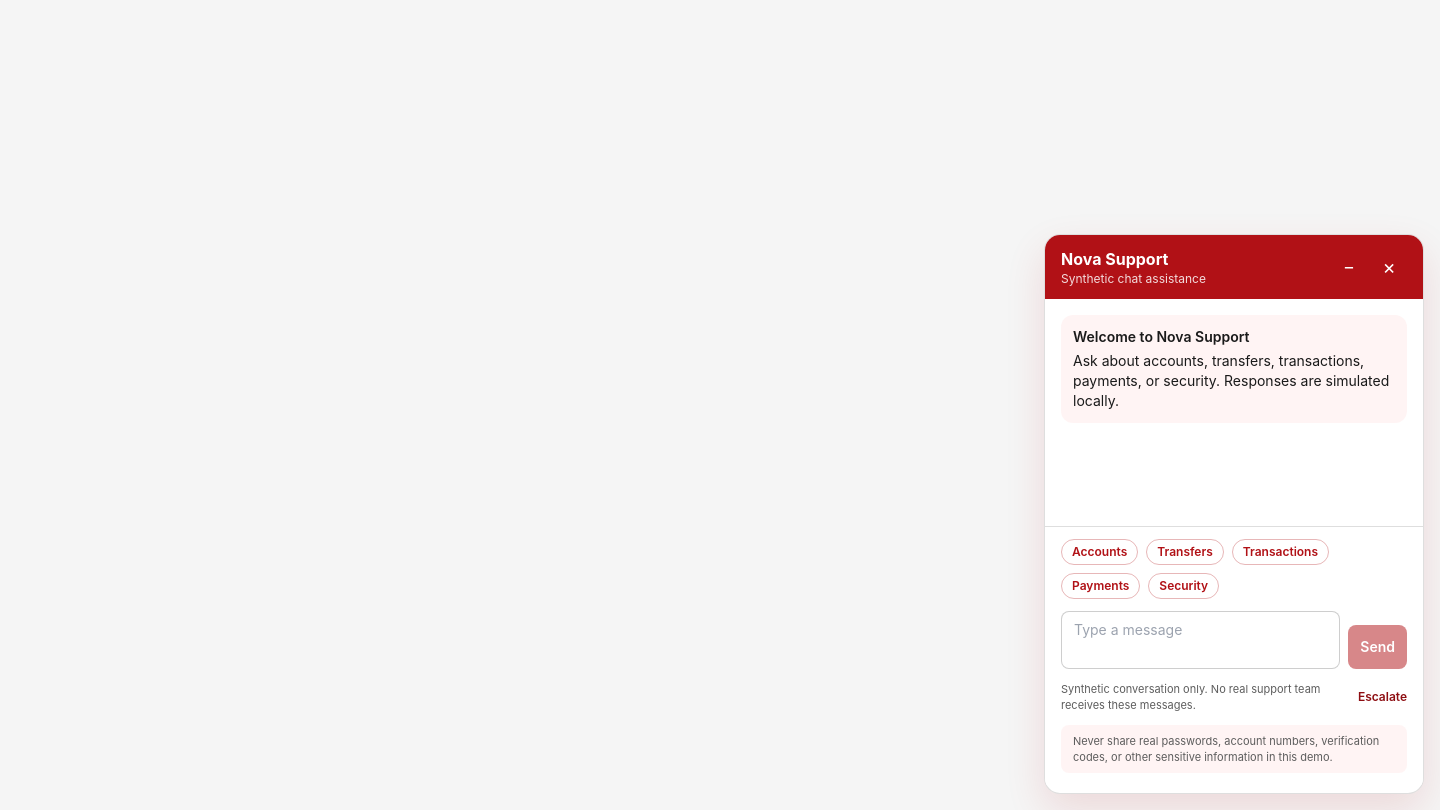
Test: ChatDrawer › sends a topic chip and shows a persona-specific scripted response
Click the button "Accounts" at (1100, 552), box x1=1061 y1=539 x2=1138 y2=565
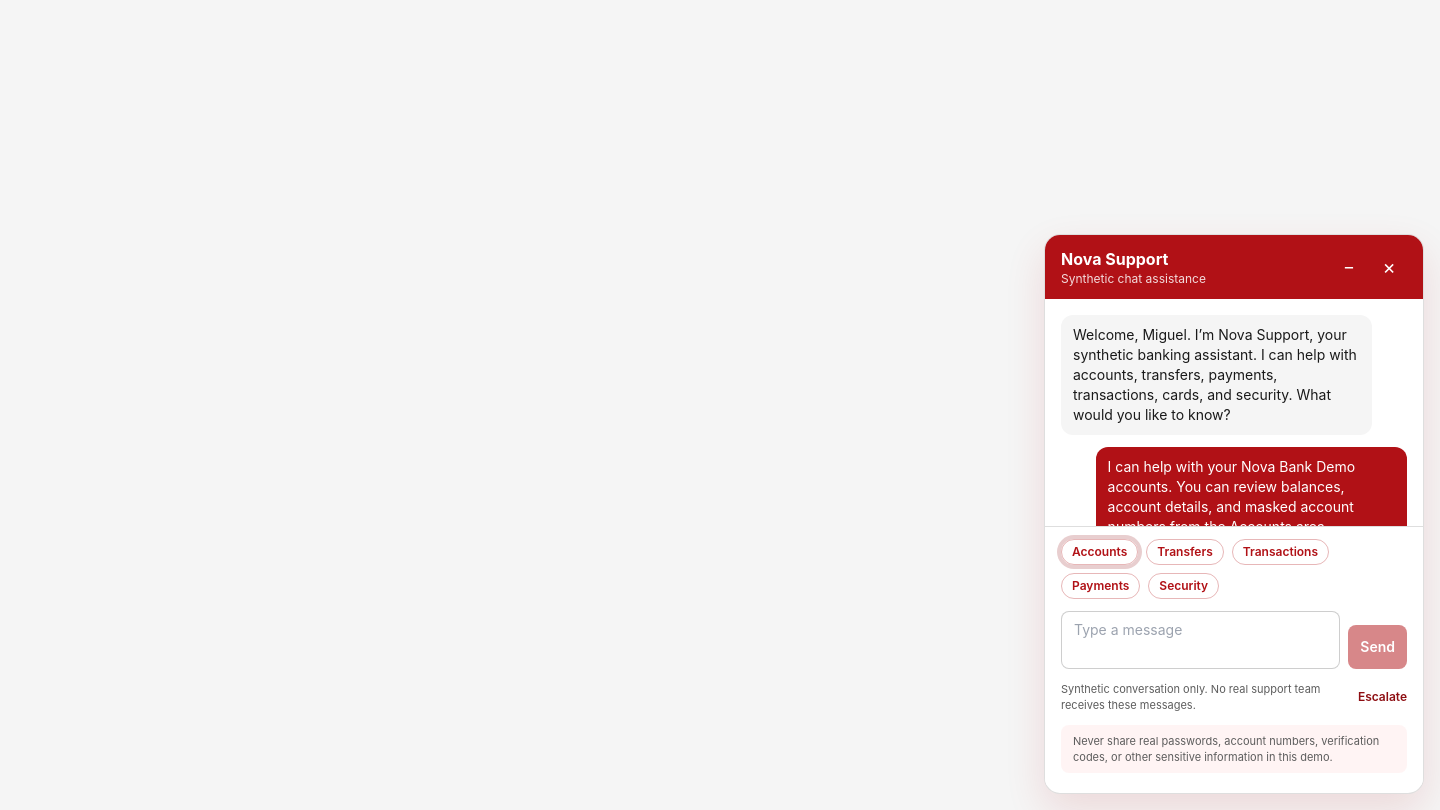
Result: the text "I can help with your Nova Bank Demo accounts. You can review balances, account details, and masked account numbers from " is shown at x1=1108 y1=458 x2=1355 y2=526
Result: the text "Welcome, Miguel." is shown at x1=1073 y1=326 x2=1357 y2=423
